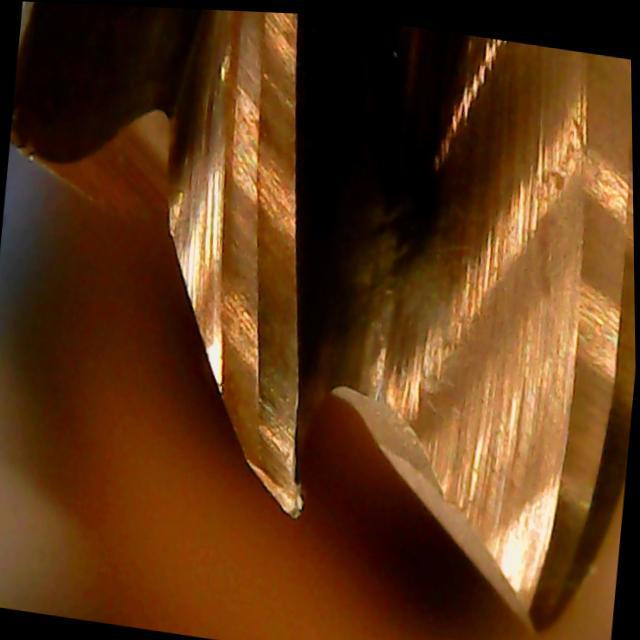Tool-wear-class-1: (203, 322, 332, 524)
